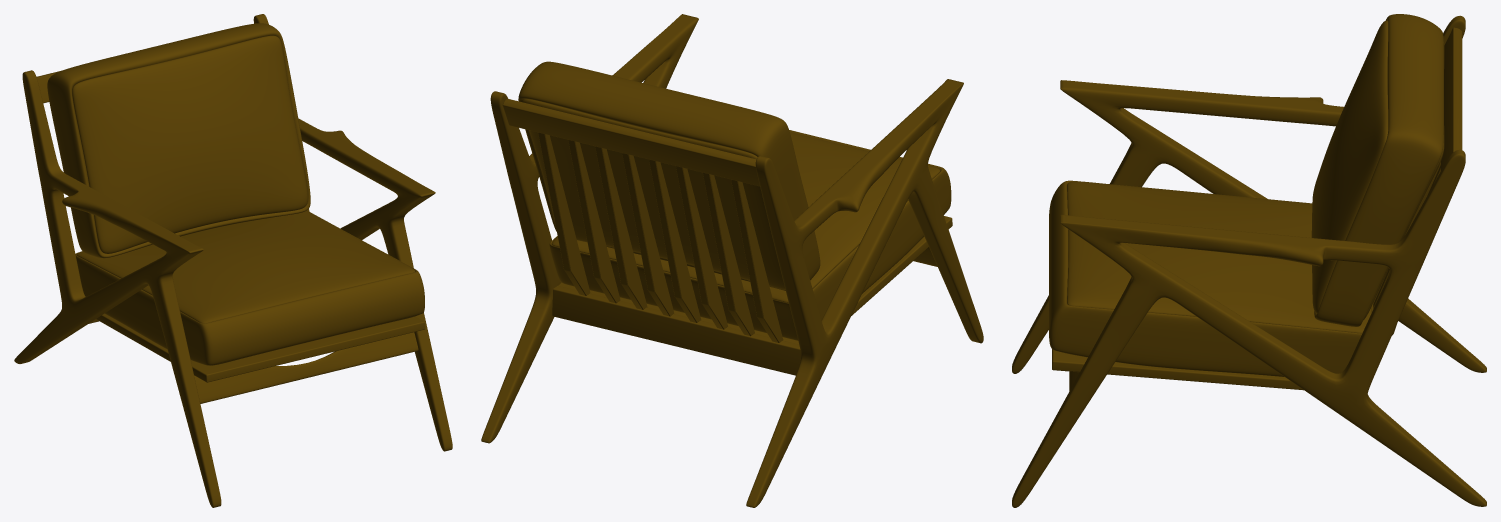
Rendered from chair1_darkbrown.glb.
3 renders of one model, left to right at view 1: azimuth 30°, elevation 25°; view 2: azimuth 150°, elevation 25°; view 3: azimuth 270°, elevation 25°, orthographic. The views are drawn at different scales.
Visible parts, largest first — view 1: cushions, legs, supports, base; view 2: cushions, legs, back, supports, base; view 3: cushions, legs, base, supports.
Part boxes in pixels (x1,y1,x2,y2): cushions: (47,23,424,365); legs: (14,14,452,507); supports: (36,23,418,403); base: (96,313,425,382); cushions: (518,61,951,340); legs: (481,14,983,507); back: (538,132,783,342); supports: (502,98,937,375); base: (558,216,952,344); cushions: (1049,14,1444,376); legs: (1012,15,1486,507); base: (1052,349,1303,390); supports: (1069,27,1462,390).
Size of the model in its own units: 1.8 by 1.9 by 2.22.
